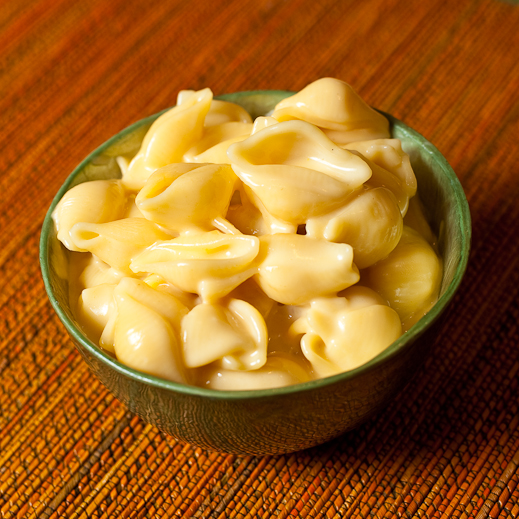macncheese: (48, 78, 443, 388)
